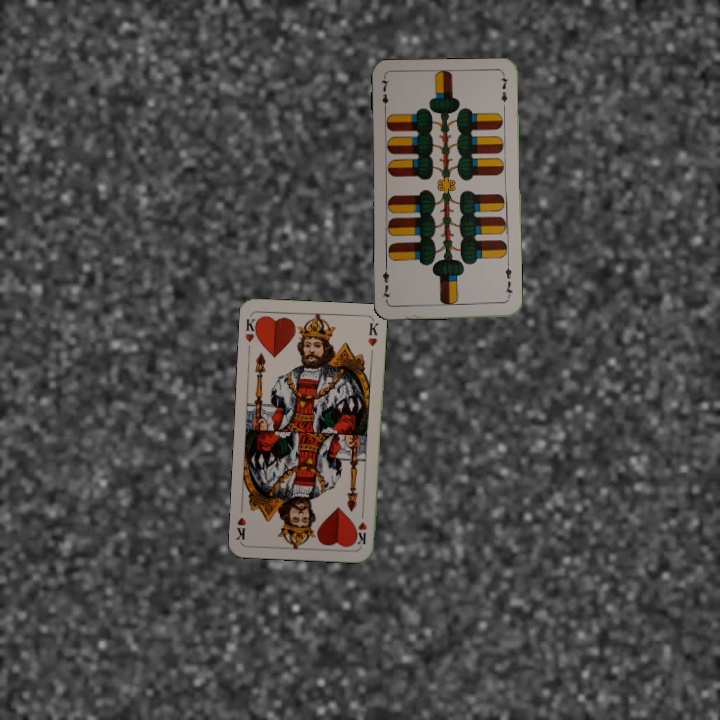E7: (501, 261, 515, 302), (377, 74, 391, 115)
HK: (352, 507, 370, 547), (241, 313, 262, 344)
